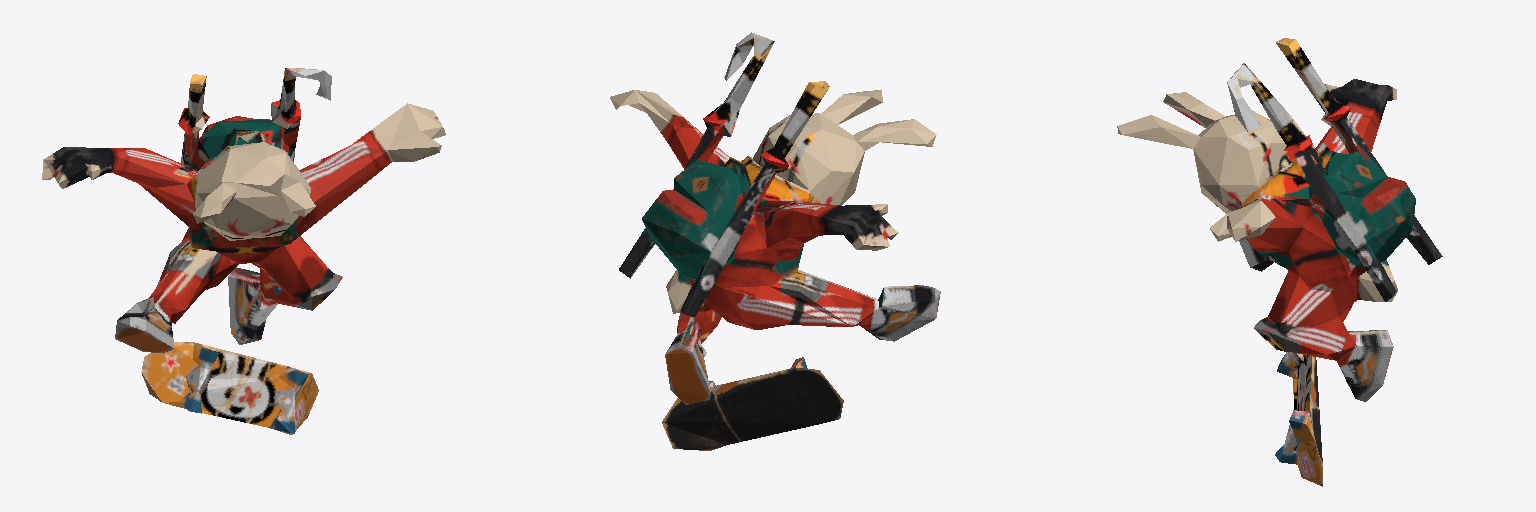
The picture shows the model from 3 angles: view 1: azimuth 30°, elevation 25°; view 2: azimuth 150°, elevation 25°; view 3: azimuth 270°, elevation 25°; orthographic projection.
Visible parts, largest first — view 1: default; view 2: default; view 3: default.
Boxes of the visible parts, x1,y1,x2,y2 form: default: [42, 68, 445, 434]; default: [610, 32, 940, 450]; default: [1117, 38, 1442, 486].
Size of the model in its own units: 1.46 by 1.65 by 1.23.
Materials: 1 (1 with a texture image).